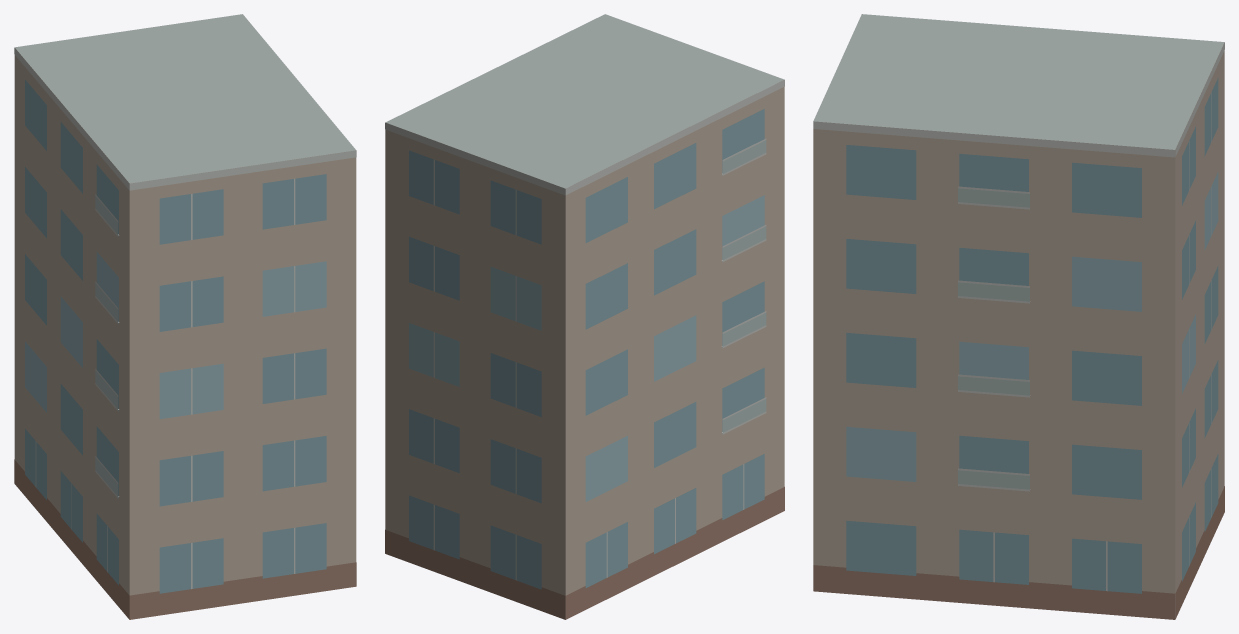
Rendered from survey-upis-32961989.glb.
The picture shows the model from 3 angles, left to right: view 1: azimuth 30°, elevation 25°; view 2: azimuth 150°, elevation 25°; view 3: azimuth 270°, elevation 25°; orthographic projection. The views are drawn at different scales.
Visible parts, largest first — view 1: survey-upis-32961989.tmp; view 2: survey-upis-32961989.tmp; view 3: survey-upis-32961989.tmp.
Part boxes in pixels (left/top/right/bottom): survey-upis-32961989.tmp: left=14, top=14, right=356, bottom=619; survey-upis-32961989.tmp: left=385, top=14, right=784, bottom=619; survey-upis-32961989.tmp: left=813, top=14, right=1224, bottom=619.
Size of the model in its own units: 9.44 by 15.2 by 12.08.
